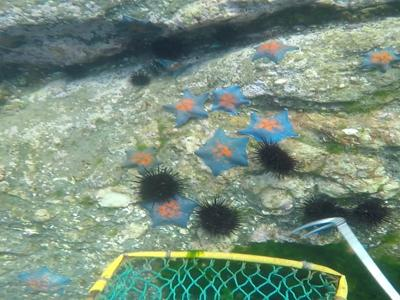urchin: (136, 168, 180, 201), (199, 199, 239, 235), (258, 139, 297, 173), (304, 197, 345, 228), (351, 196, 383, 224), (131, 74, 150, 87)
